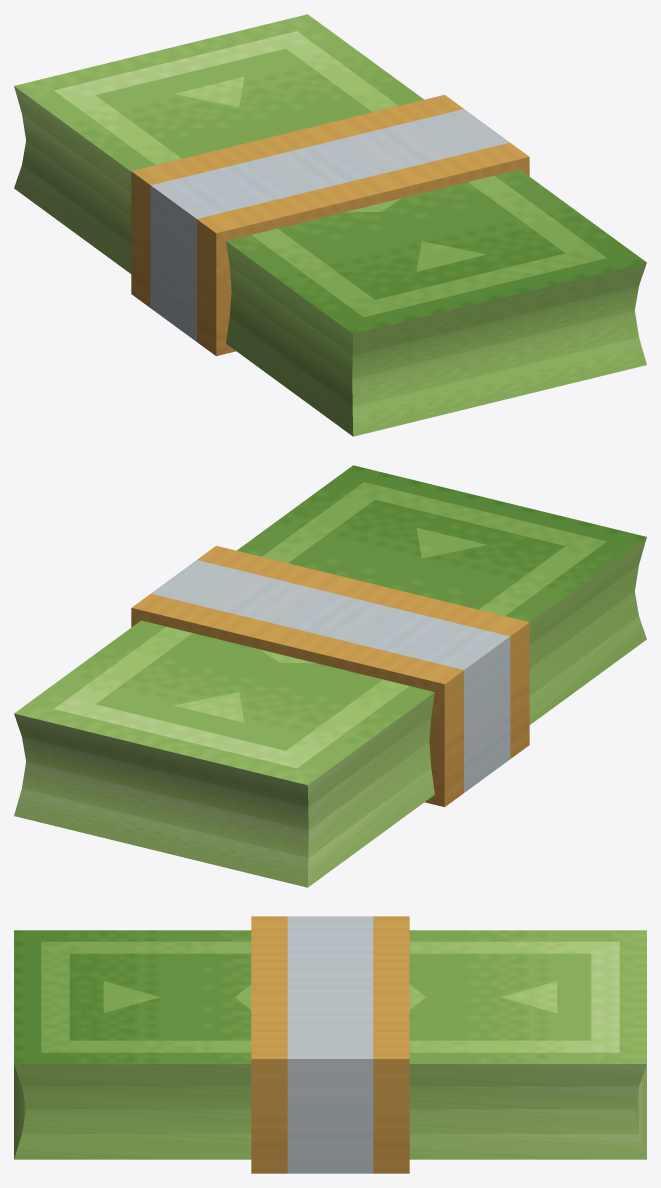
File: Money_Bills_Stack_Small.gltf
3 views of the same model, one above another, from view 1: azimuth 30°, elevation 25°; view 2: azimuth 150°, elevation 25°; view 3: azimuth 270°, elevation 25° (orthographic). The views are drawn at different scales.
Parts seen in each view (by area): view 1: Money_Bills_Stack_Small; view 2: Money_Bills_Stack_Small; view 3: Money_Bills_Stack_Small.
Boxes of the visible parts, x1,y1,x2,y2 form: Money_Bills_Stack_Small: (14,14,646,436); Money_Bills_Stack_Small: (14,465,646,887); Money_Bills_Stack_Small: (14,916,646,1173).
Size of the model in its own units: 0.32 by 0.12 by 0.6.
1 material, 1 textured.
